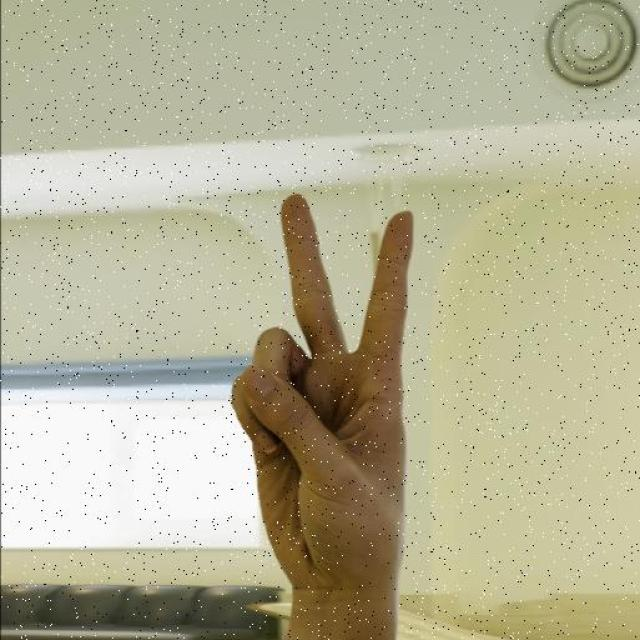V: (218, 177, 417, 640)
